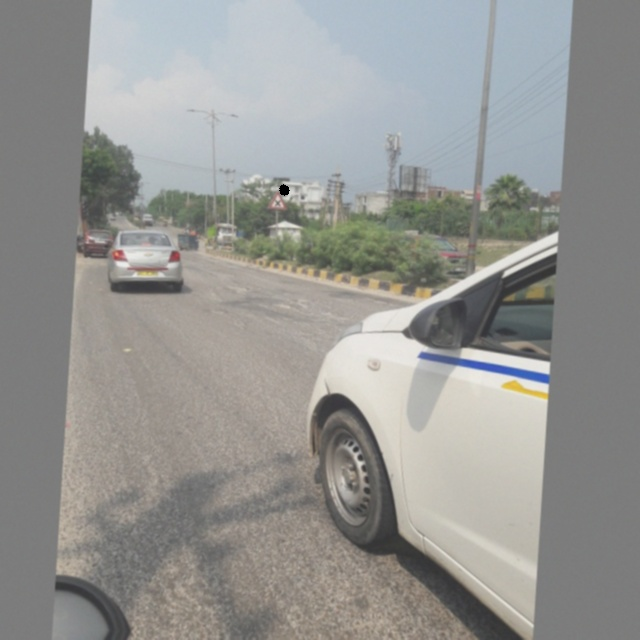Cross_Road: (265, 184, 292, 212)
